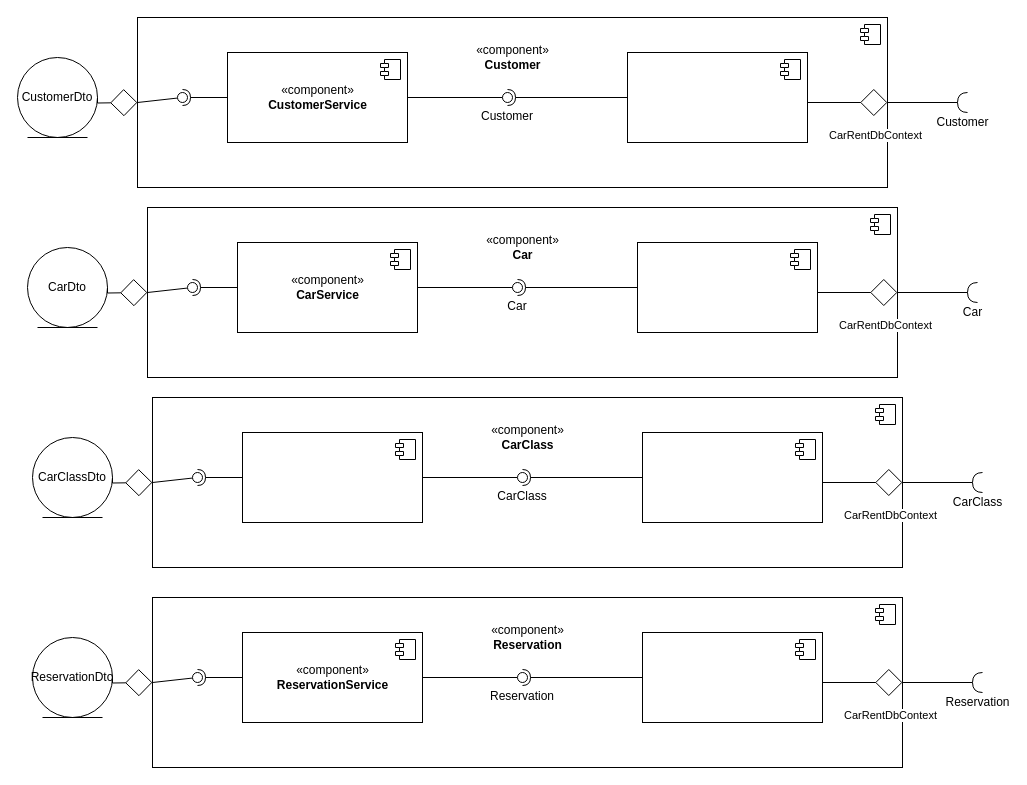
The diagram is 1027 pixels wide and 785 high, and some of its shapes have lost their labels. Here are the shapes that lost their labels. From the top down, the centre of each, then its label:
(x=717, y=97): «component» CustomerRepository
(x=727, y=287): «component» CarRepository
(x=332, y=477): «component» CarClassService
(x=732, y=477): «component» CarClassRepository
(x=732, y=677): «component» ReservationRepository
